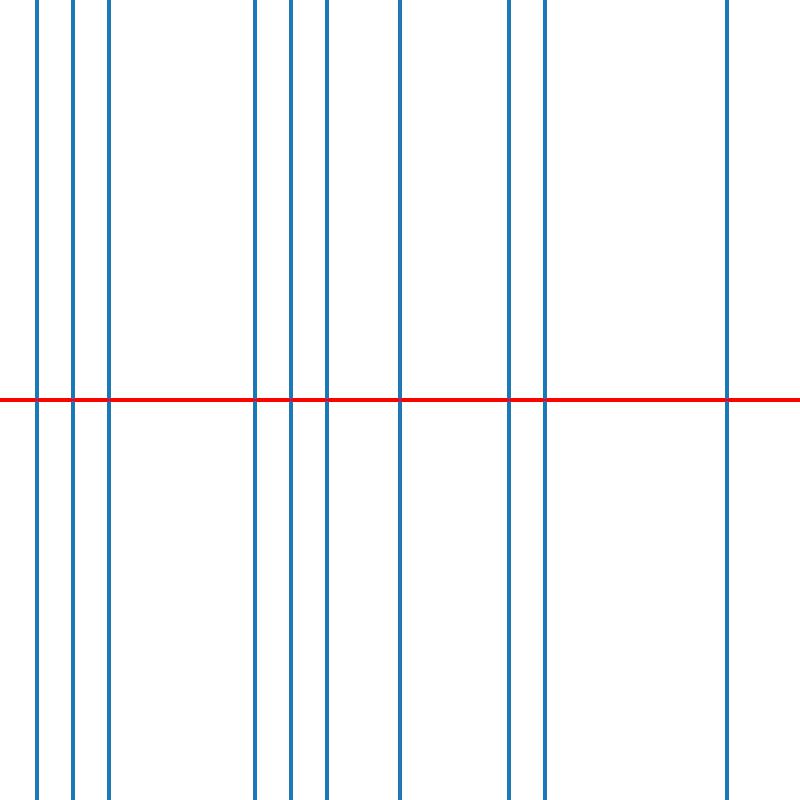root: (541, 396, 549, 404), (32, 396, 40, 404), (250, 396, 258, 404), (287, 396, 294, 404), (105, 396, 112, 404), (69, 396, 76, 404), (723, 396, 730, 404), (505, 396, 512, 404), (323, 396, 330, 404), (396, 396, 403, 404)
